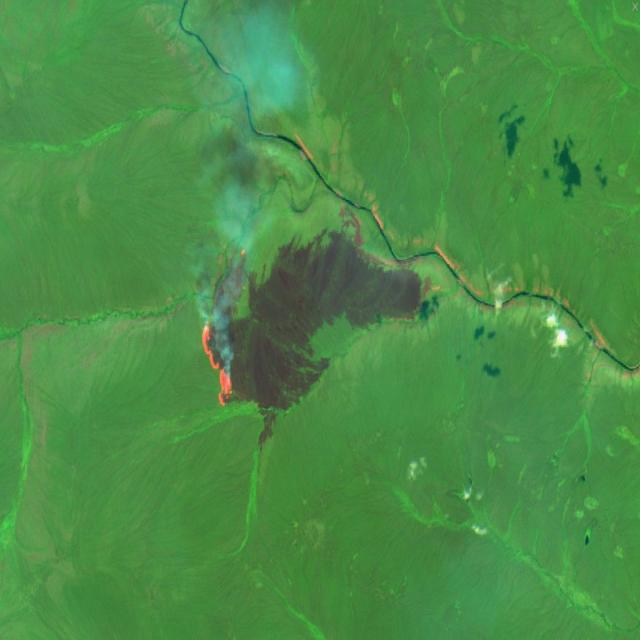fire: (195, 242, 259, 410)
